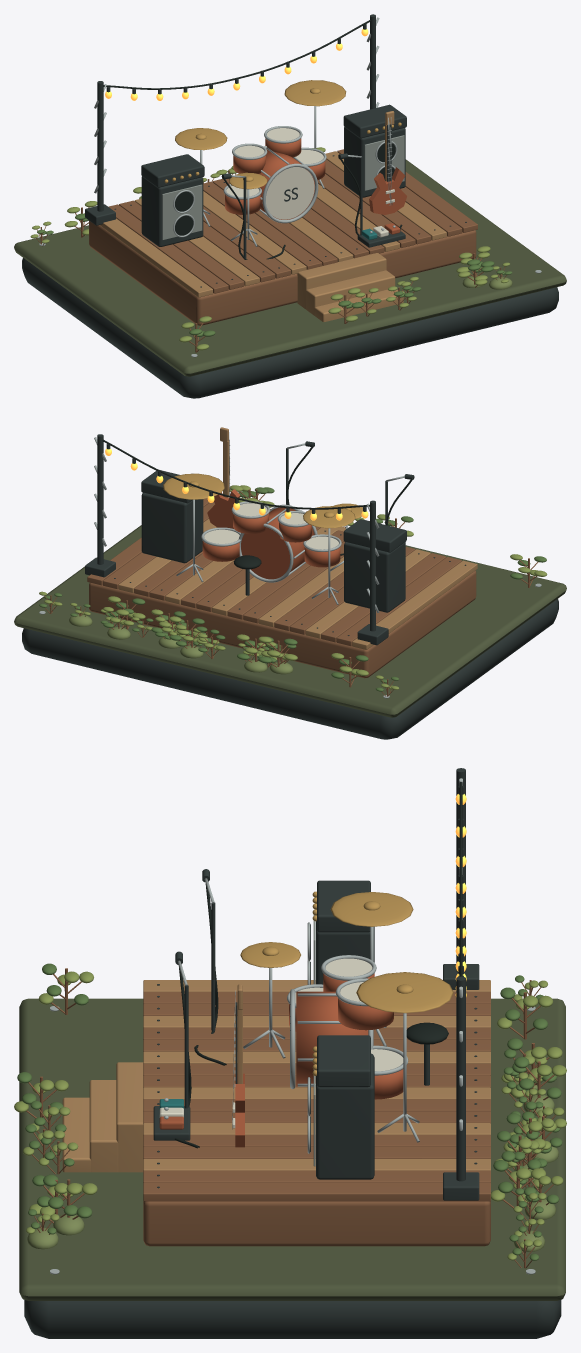
Rendered from seeds-v2.glb.
The picture shows the model from 3 angles, top to bottom: view 1: azimuth 30°, elevation 25°; view 2: azimuth 150°, elevation 25°; view 3: azimuth 270°, elevation 25°; orthographic projection. The views are drawn at different scales.
Parts seen in each view (by area): view 1: seeds_Dark earth, seeds_Oiled timber, seeds_Graphite enamel, seeds_Timber end grain, seeds_Oxide paint, seeds_Brushed aluminum, seeds_Warm chalk, seeds_Sunlit foliage, seeds_Concrete, seeds_Rubber and cables, cymbal_1_Warm brass, seeds_Olive foliage (+3 smaller); view 2: seeds_Graphite enamel, seeds_Oiled timber, seeds_Dark earth, seeds_Timber end grain, seeds_Oxide paint, seeds_Sunlit foliage, seeds_Brushed aluminum, seeds_Olive foliage, seeds_Meadow, seeds_Rubber and cables, seeds_Warm chalk, cymbal_1_Warm brass (+2 smaller); view 3: seeds_Dark earth, seeds_Oiled timber, seeds_Graphite enamel, seeds_Timber end grain, seeds_Sunlit foliage, seeds_Olive foliage, seeds_Oxide paint, seeds_Brushed aluminum, cymbal_1_Warm brass, seeds_Rubber and cables, seeds_Meadow, cymbal_0_Warm brass (+3 smaller).
Boxes of the visible parts, left/top/right/bottom form: seeds_Dark earth: left=14, top=159, right=566, bottom=376; seeds_Oiled timber: left=36, top=149, right=506, bottom=352; seeds_Graphite enamel: left=22, top=14, right=558, bottom=398; seeds_Timber end grain: left=100, top=111, right=446, bottom=321; seeds_Oxide paint: left=225, top=138, right=406, bottom=234; seeds_Brushed aluminum: left=39, top=17, right=541, bottom=357; seeds_Warm chalk: left=226, top=128, right=394, bottom=237; seeds_Sunlit foliage: left=30, top=147, right=509, bottom=350; seeds_Concrete: left=162, top=135, right=404, bottom=239; seeds_Rubber and cables: left=103, top=20, right=402, bottom=259; cymbal_1_Warm brass: left=284, top=80, right=346, bottom=106; seeds_Olive foliage: left=37, top=197, right=512, bottom=336; seeds_Graphite enamel: left=22, top=434, right=558, bottom=739; seeds_Oiled timber: left=44, top=489, right=538, bottom=696; seeds_Dark earth: left=14, top=525, right=566, bottom=717; seeds_Timber end grain: left=118, top=427, right=477, bottom=649; seeds_Oxide paint: left=202, top=489, right=340, bottom=579; seeds_Sunlit foliage: left=39, top=485, right=547, bottom=689; seeds_Brushed aluminum: left=39, top=432, right=541, bottom=698; seeds_Olive foliage: left=39, top=487, right=546, bottom=691; seeds_Meadow: left=69, top=614, right=293, bottom=674; seeds_Rubber and cables: left=102, top=439, right=413, bottom=569; seeds_Warm chalk: left=204, top=503, right=338, bottom=549; cymbal_1_Warm brass: left=163, top=473, right=224, bottom=499; seeds_Dark earth: left=19, top=998, right=565, bottom=1300; seeds_Oiled timber: left=26, top=968, right=555, bottom=1268; seeds_Graphite enamel: left=24, top=768, right=561, bottom=1338; seeds_Timber end grain: left=62, top=980, right=490, bottom=1172; seeds_Sunlit foliage: left=14, top=971, right=566, bottom=1260; seeds_Olive foliage: left=17, top=963, right=562, bottom=1260; seeds_Oxide paint: left=159, top=973, right=403, bottom=1147; seeds_Brushed aluminum: left=50, top=778, right=535, bottom=1274; cymbal_1_Warm brass: left=356, top=972, right=453, bottom=1013; seeds_Rubber and cables: left=174, top=777, right=462, bottom=1151; seeds_Meadow: left=27, top=1081, right=558, bottom=1251; cymbal_0_Warm brass: left=330, top=892, right=413, bottom=926.
Size of the model in its own units: 5.68 by 2.98 by 4.53.
